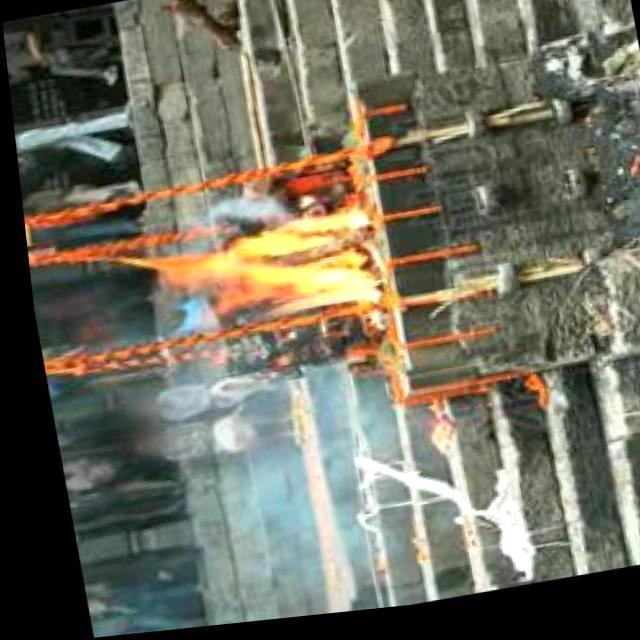fire: (135, 206, 385, 348)
